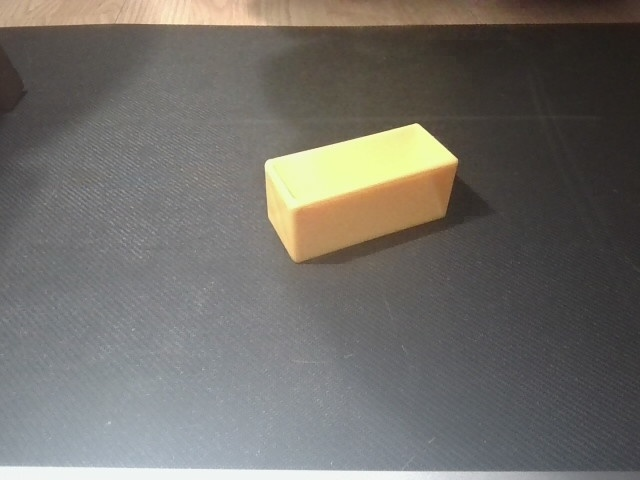YellowSample: (260, 118, 462, 265)
